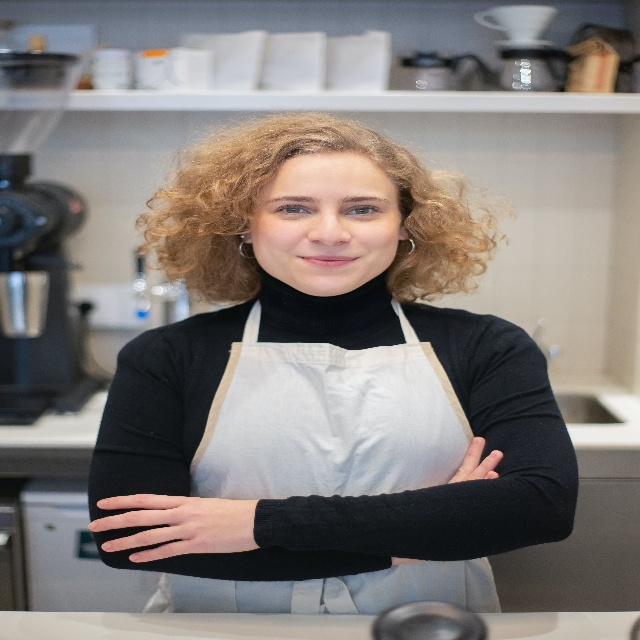Sin_guantes: (87, 493, 259, 563), (448, 436, 503, 484)
